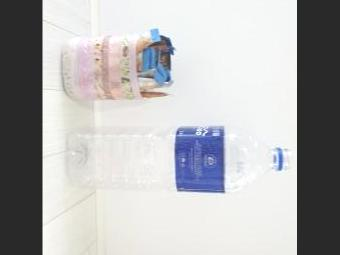bottle: (66, 126, 292, 194)
